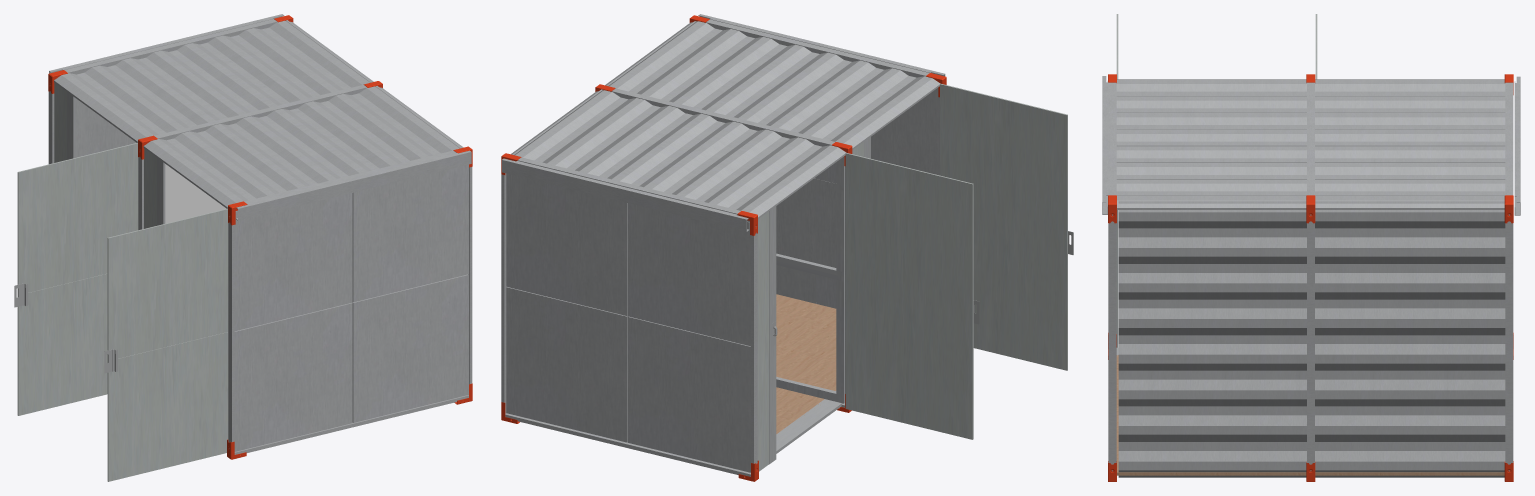
The model's file is 6S2_opened.glb.
3 views of the same model, side by side, from view 1: azimuth 30°, elevation 25°; view 2: azimuth 150°, elevation 25°; view 3: azimuth 270°, elevation 25° (orthographic). The views are drawn at different scales.
Parts seen in each view (by area): view 1: leftSideOfDoors.001, Cube.001, celing, frontRim, gutter, Cube, Wall, corners, gutter.001; view 2: leftSideOfDoors.001, Cube, celing, Cube.001, frontRim, floor.002, gutter.001, Wall, corners, floor, gutter; view 3: back, celing, frontRim, floor.002, corners, gutter.001, gutter, leftSideOfDoors.001.
Part boxes in pixels (x1,y1,x2,y2): leftSideOfDoors.001: [14, 83, 228, 481]; Cube.001: [234, 164, 468, 451]; celing: [54, 20, 463, 208]; frontRim: [48, 19, 472, 454]; gutter: [235, 150, 471, 220]; Cube: [75, 98, 136, 157]; Wall: [165, 164, 226, 223]; corners: [48, 15, 472, 459]; gutter.001: [49, 14, 284, 73]; leftSideOfDoors.001: [757, 84, 1073, 471]; Cube: [506, 173, 750, 472]; celing: [511, 21, 940, 218]; Cube.001: [776, 88, 939, 308]; frontRim: [501, 19, 939, 476]; floor.002: [776, 294, 836, 433]; gutter.001: [502, 158, 749, 231]; Wall: [776, 156, 844, 403]; corners: [501, 15, 946, 481]; floor: [776, 399, 842, 453]; gutter: [698, 14, 945, 76]; back: [1118, 200, 1505, 477]; celing: [1116, 79, 1505, 209]; frontRim: [1108, 82, 1513, 471]; floor.002: [1116, 355, 1504, 475]; corners: [1108, 74, 1513, 481]; gutter.001: [1514, 76, 1520, 215]; gutter: [1102, 76, 1108, 214]; leftSideOfDoors.001: [1116, 14, 1317, 347].
Bounding box in the file's own units: 35 × 23.06 × 31.39.
Materials: 9 (8 with a texture image).
